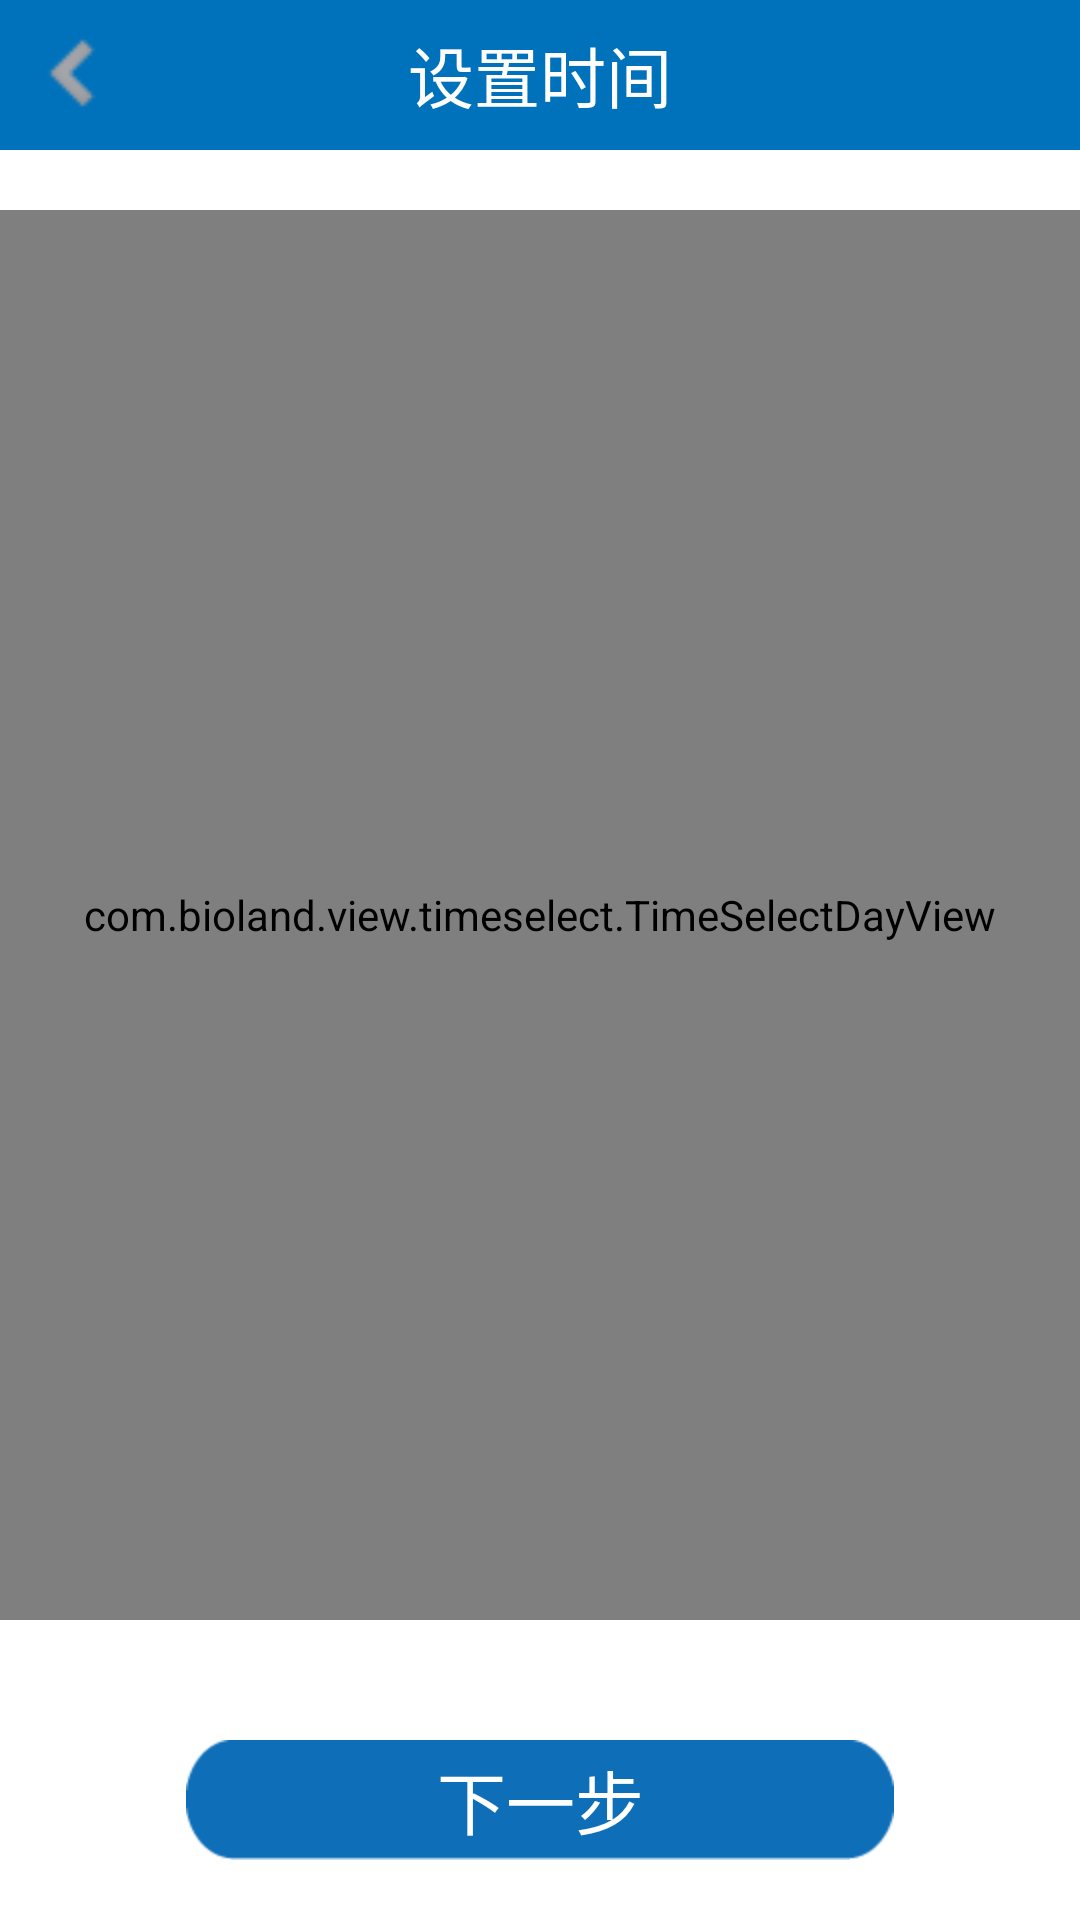

Where icons sit on this 1080 × 1920 app screen, as bbox(x1, y1, x2, y2):
arrow return: bbox(50, 40, 94, 107)
